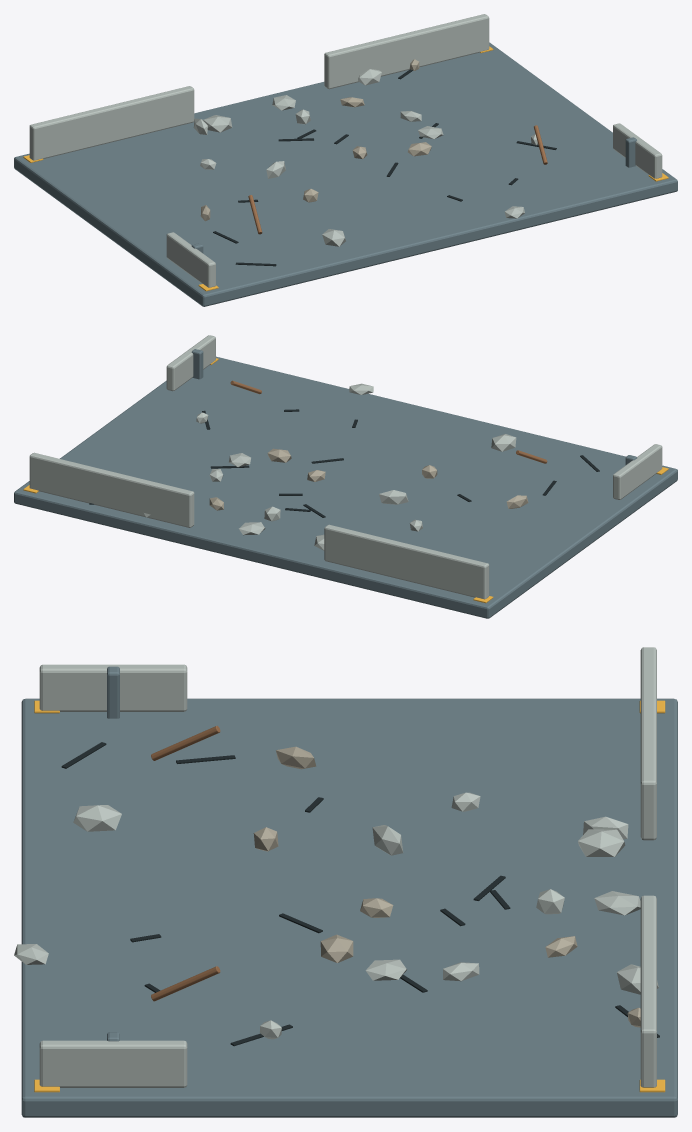
The model's file is personnel_infirmary_d3.glb.
3 views of the same model, one above another, from view 1: azimuth 30°, elevation 25°; view 2: azimuth 150°, elevation 25°; view 3: azimuth 270°, elevation 25° (orthographic). The views are drawn at different scales.
Visible parts, largest first — view 1: Foundation.011, End bulkhead.040, End bulkhead.041, Side pressure panel.067, Side pressure panel.068; view 2: Foundation.011, End bulkhead.040, End bulkhead.041, Side pressure panel.067, Side pressure panel.068; view 3: Foundation.011, Side pressure panel.068, Side pressure panel.067, End bulkhead.040, End bulkhead.041, Bounded fractured debris.068, Bounded fractured debris.061, Bounded fractured debris.062, Bounded fractured debris.075, Bounded fractured debris.070, Bounded fractured debris.071.
Part boxes in pixels (left/top/right/bottom): Foundation.011: left=14, top=42, right=677, bottom=306; End bulkhead.040: left=29, top=86, right=194, bottom=160; End bulkhead.041: left=324, top=14, right=489, bottom=89; Side pressure panel.067: left=166, top=232, right=215, bottom=287; Side pressure panel.068: left=613, top=123, right=662, bottom=178; Foundation.011: left=14, top=356, right=677, bottom=618; End bulkhead.040: left=324, top=524, right=489, bottom=599; End bulkhead.041: left=29, top=452, right=194, bottom=527; Side pressure panel.067: left=613, top=444, right=662, bottom=499; Side pressure panel.068: left=166, top=335, right=215, bottom=391; Foundation.011: left=21, top=698, right=677, bottom=1117; Side pressure panel.068: left=39, top=1040, right=187, bottom=1087; Side pressure panel.067: left=39, top=664, right=187, bottom=711; End bulkhead.040: left=640, top=647, right=656, bottom=840; End bulkhead.041: left=640, top=895, right=656, bottom=1087; Bounded fractured debris.068: left=578, top=829, right=625, bottom=856; Bounded fractured debris.061: left=73, top=805, right=121, bottom=831; Bounded fractured debris.062: left=594, top=891, right=640, bottom=915; Bounded fractured debris.075: left=320, top=934, right=353, bottom=962; Bounded fractured debris.070: left=365, top=959, right=406, bottom=980; Bounded fractured debris.071: left=372, top=825, right=403, bottom=855.
Bounding box in the file's own units: 13 × 1.22 × 9.1.
